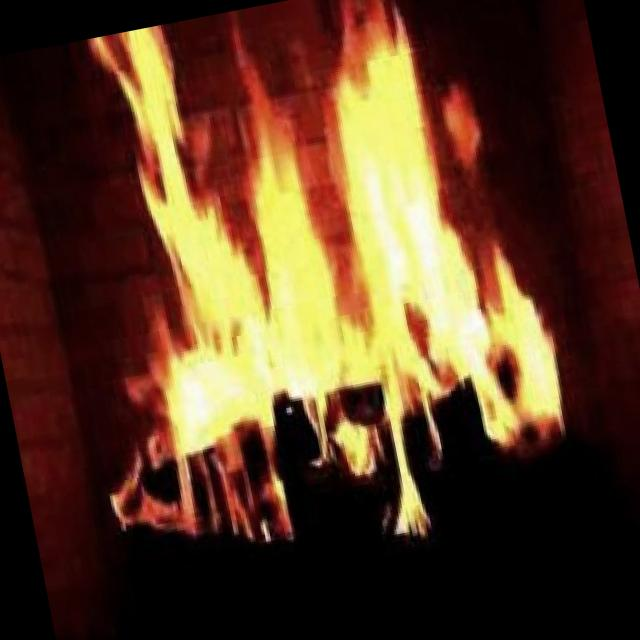fire: (106, 0, 556, 494)
